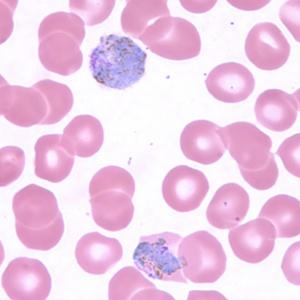Infected: (89, 32, 148, 90), (131, 231, 190, 283)
Uninfected: (136, 15, 202, 59), (219, 121, 273, 172), (179, 231, 227, 283), (161, 164, 210, 214), (179, 119, 229, 166), (11, 183, 59, 231), (119, 0, 172, 43), (227, 218, 276, 264), (206, 180, 250, 231), (1, 256, 52, 300), (204, 61, 257, 103), (244, 22, 290, 70), (73, 231, 124, 274), (13, 208, 64, 251), (33, 135, 76, 184), (38, 31, 83, 76), (30, 79, 74, 125), (1, 84, 47, 128), (61, 114, 105, 159), (258, 193, 300, 240), (88, 190, 135, 231), (38, 11, 86, 51), (255, 88, 297, 132), (236, 149, 280, 190), (90, 164, 135, 203), (105, 266, 156, 300), (0, 144, 26, 186)
